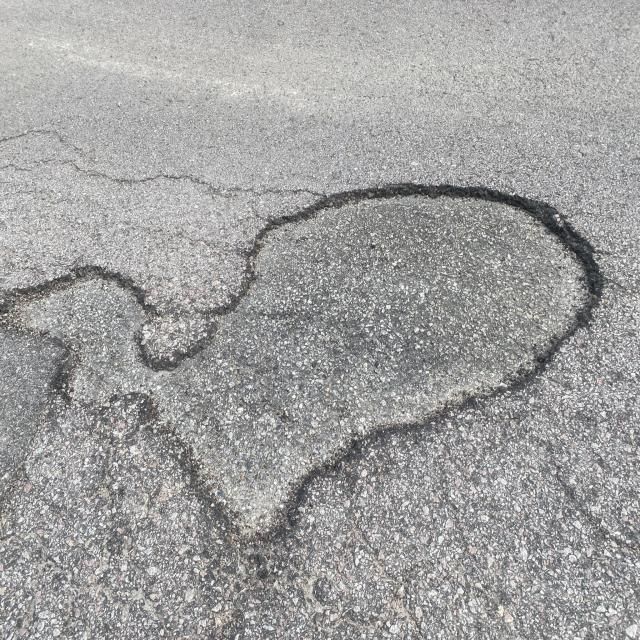pothole: (2, 148, 640, 580)
